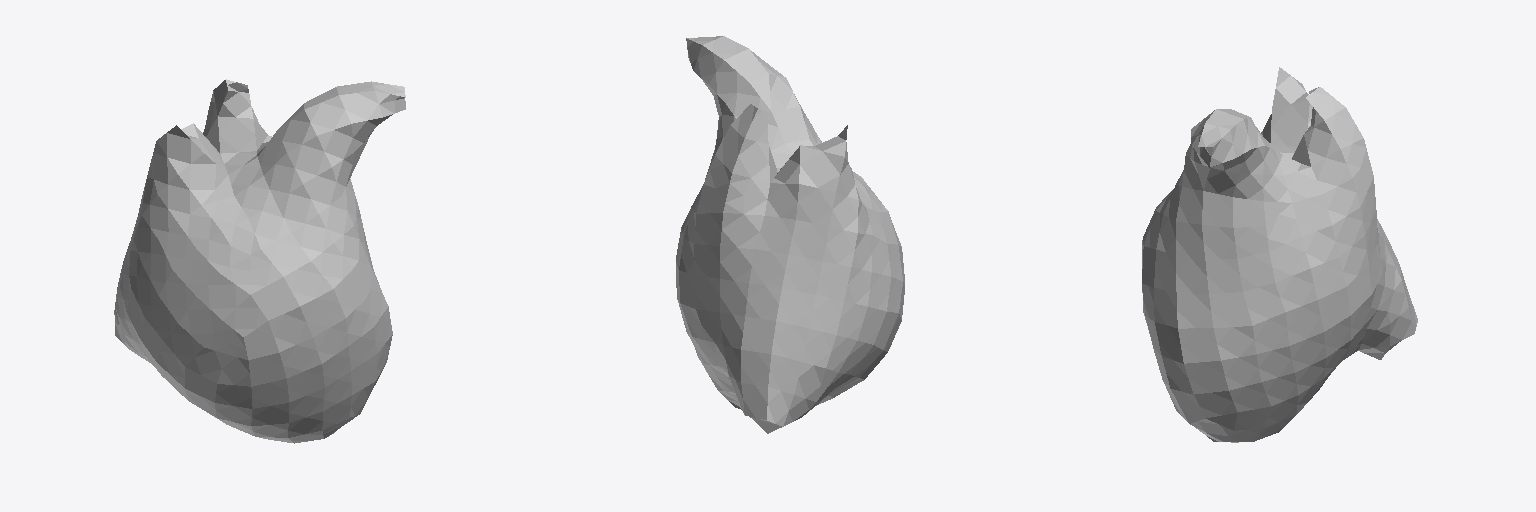
The model's file is HeartLow.obj.
3 renders of one model, left to right at view 1: azimuth 30°, elevation 25°; view 2: azimuth 150°, elevation 25°; view 3: azimuth 270°, elevation 25°, orthographic.
Bounding box in the file's own units: 1.77 × 2.53 × 1.84.